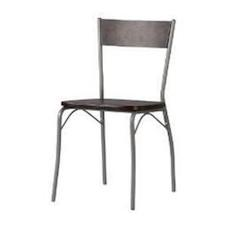chair: (25, 8, 191, 224)
